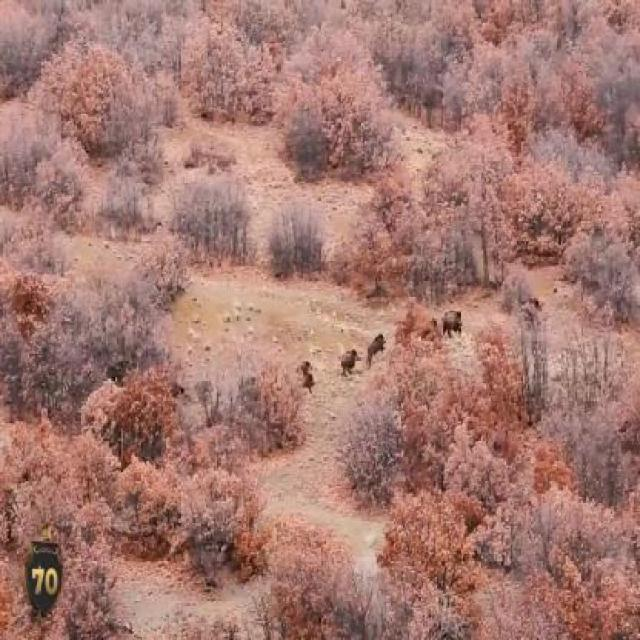pig: (342, 338, 354, 384), (371, 328, 382, 372), (446, 306, 458, 339), (302, 352, 309, 388)
